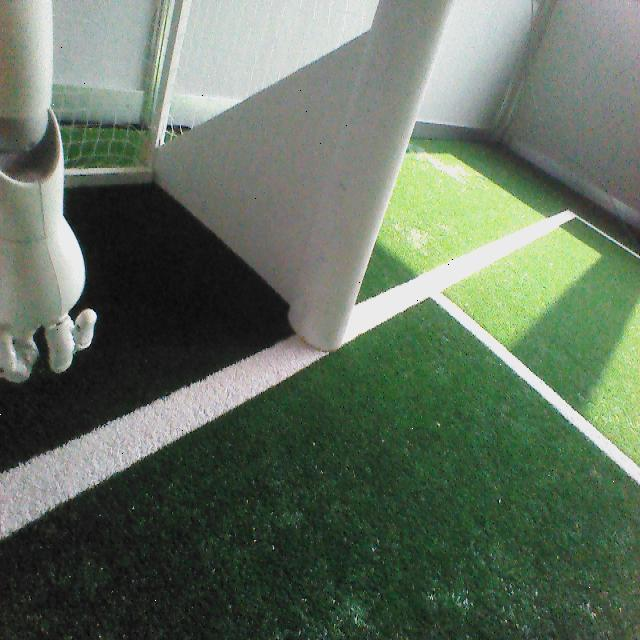goalpost: (286, 0, 456, 357)
